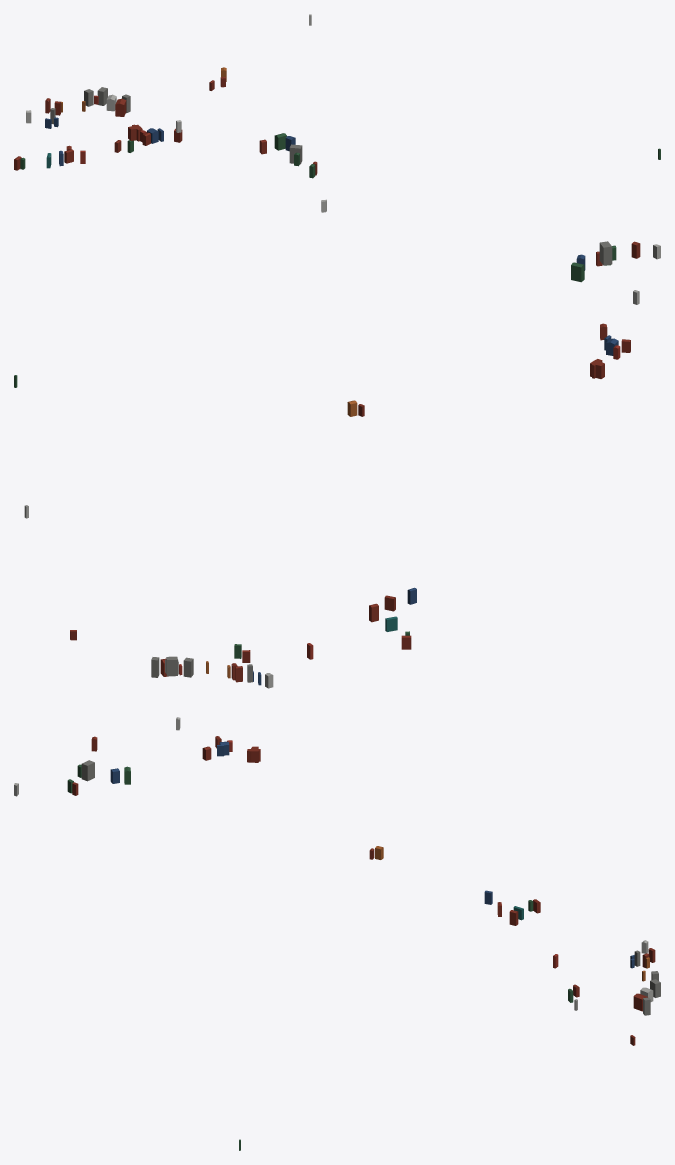
The model's file is near-15-27372-14872.7903f633.glb.
3 renders of one model, top to bottom at view 1: azimuth 30°, elevation 25°; view 2: azimuth 150°, elevation 25°; view 3: azimuth 270°, elevation 25°, orthographic. The views are drawn at different scales.
Bounding box in the file's own units: 922 × 356 × 987.
